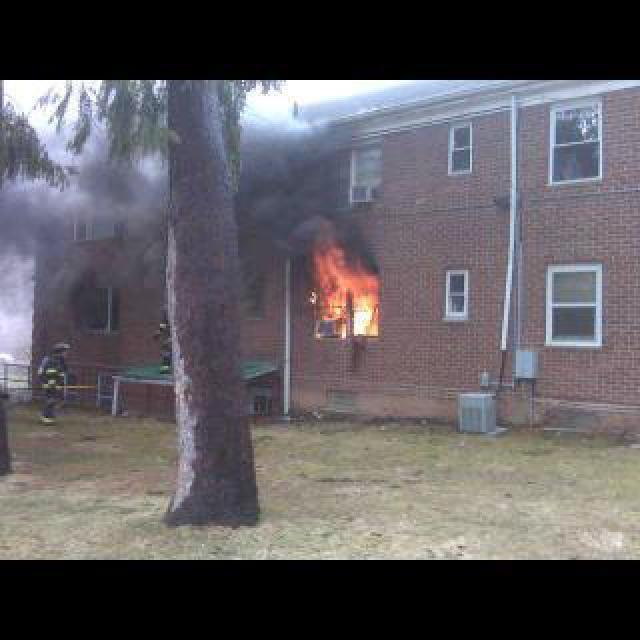Fire: (296, 244, 388, 336)
Smoke: (236, 124, 352, 250)
